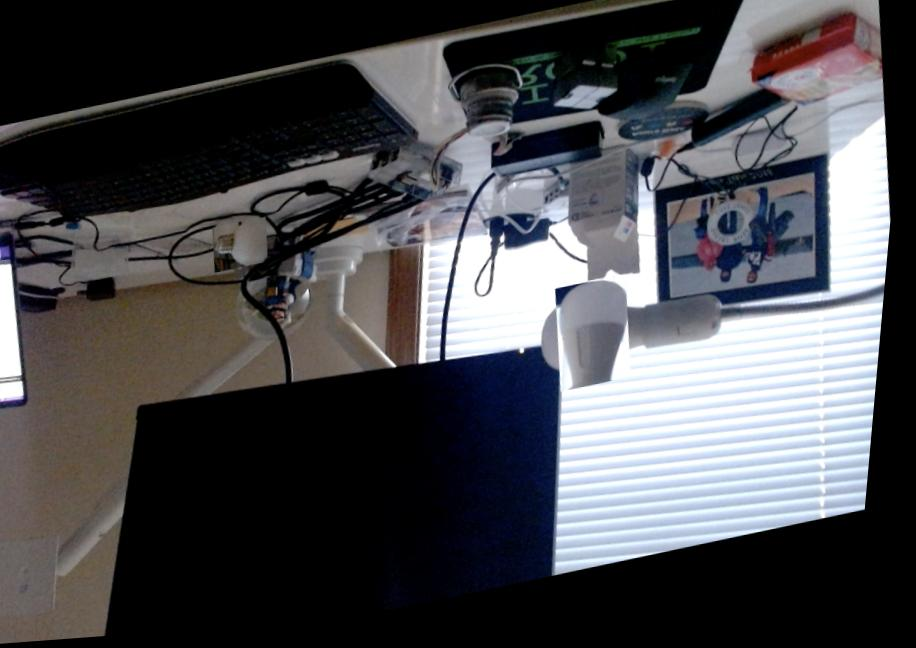Fan: (546, 290, 651, 394), (214, 218, 274, 277)
